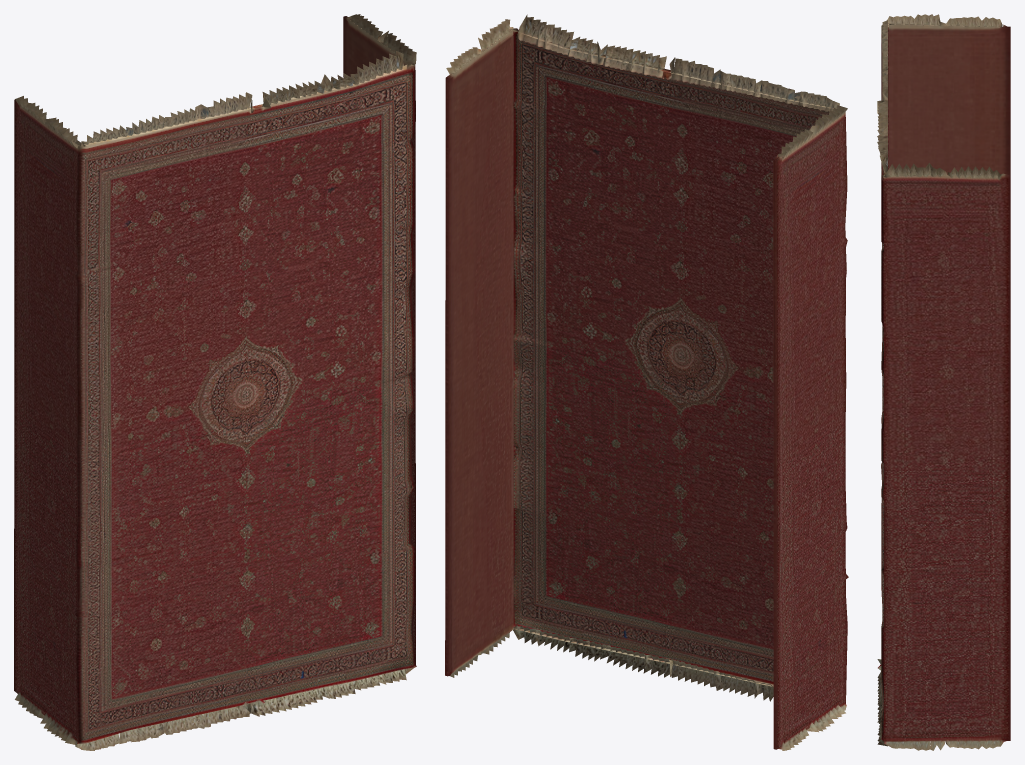
File: tappeto_grande.fbx
3 views of the same model, side by side, from view 1: azimuth 30°, elevation 25°; view 2: azimuth 150°, elevation 25°; view 3: azimuth 270°, elevation 25° (orthographic). The views are drawn at different scales.
Parts seen in each view (by area): view 1: tripo_node_725eb98c; view 2: tripo_node_725eb98c; view 3: tripo_node_725eb98c.
Boxes of the visible parts, x1,y1,x2,y2 form: tripo_node_725eb98c: (14, 14, 416, 750); tripo_node_725eb98c: (445, 14, 848, 750); tripo_node_725eb98c: (877, 14, 1010, 750).
Size of the model in its own units: 0.5776 by 0.9995 by 0.2046.
1 material, 1 textured.
